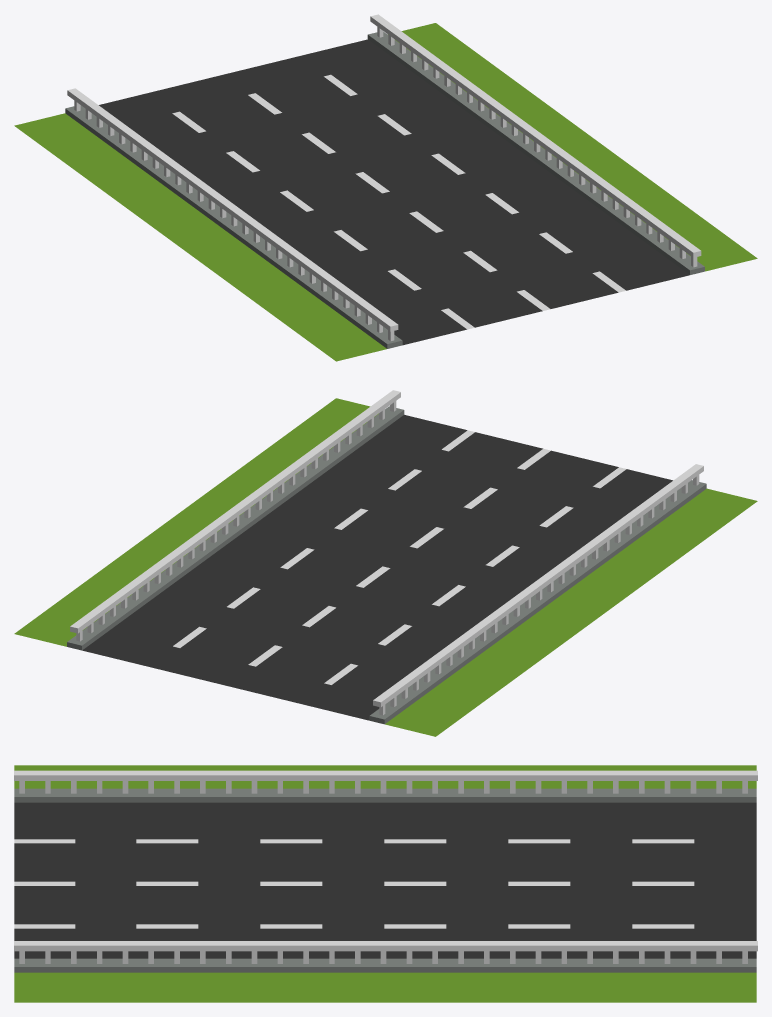
File: Road.fbx
3 views of the same model, one above another, from view 1: azimuth 30°, elevation 25°; view 2: azimuth 150°, elevation 25°; view 3: azimuth 270°, elevation 25° (orthographic). The views are drawn at different scales.
Visible parts, largest first — view 1: Road, Cube.003, Cube.001, Cube.002, Cube; view 2: Road, Cube.001, Cube.003, Cube.002, Cube; view 3: Road, Cube.001, Cube.003, Cube, Cube.002.
Boxes of the visible parts, x1,y1,x2,y2 form: Road: (14,23,757,361); Cube.003: (67,88,398,331); Cube.001: (370,14,701,257); Cube.002: (74,100,394,341); Cube: (377,27,697,267); Road: (14,398,757,736); Cube.001: (70,390,400,633); Cube.003: (373,464,703,707); Cube.002: (379,475,699,715); Cube: (76,401,396,641); Road: (14,765,756,1002); Cube.001: (14,941,757,951); Cube.003: (14,770,757,780); Cube: (19,951,747,963); Cube.002: (19,781,747,793).
Size of the model in its own units: 5291 by 261 by 7018.
